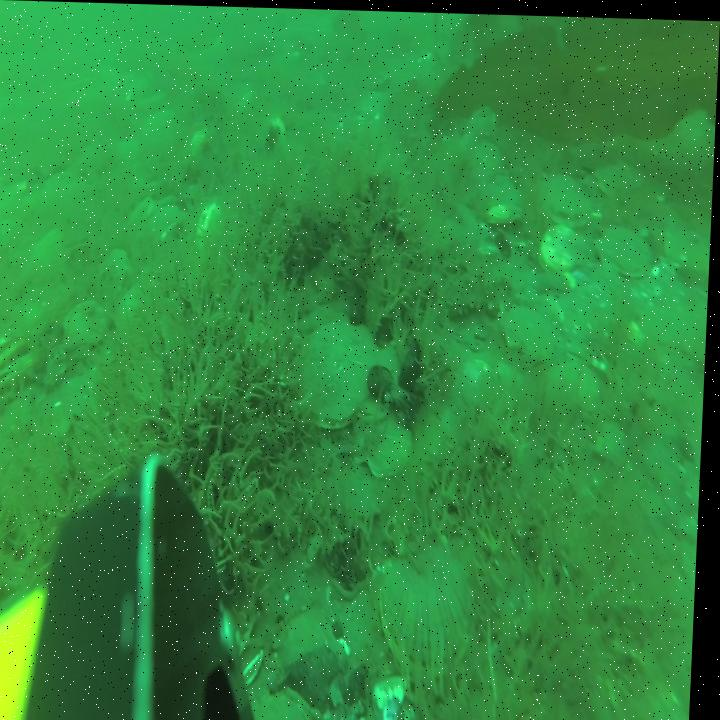scallop: (381, 543, 480, 672), (297, 312, 388, 432), (284, 600, 357, 687), (343, 582, 402, 685), (503, 294, 565, 368), (335, 444, 390, 520), (358, 340, 407, 414), (555, 350, 606, 419), (373, 409, 417, 484), (603, 214, 657, 275), (543, 164, 596, 222), (541, 219, 594, 272), (66, 298, 111, 354), (482, 171, 527, 225), (259, 681, 321, 720), (667, 223, 713, 275), (97, 244, 136, 300), (602, 155, 644, 203), (0, 354, 38, 404), (470, 131, 503, 177), (467, 100, 499, 135), (0, 340, 28, 380), (0, 323, 20, 362)
